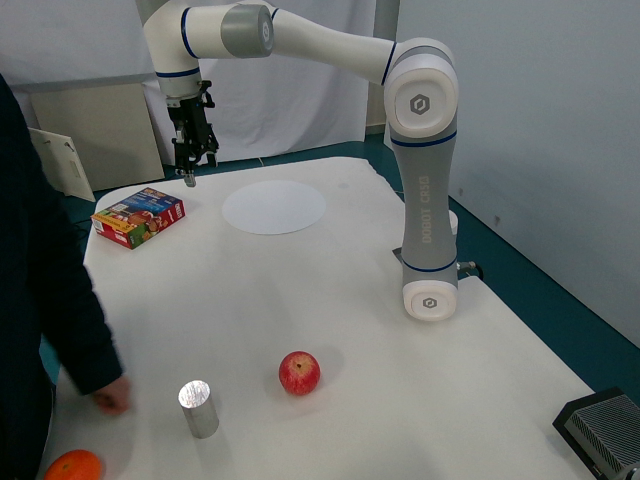apple: (277, 347, 322, 403)
metalROD: (175, 372, 222, 445)
